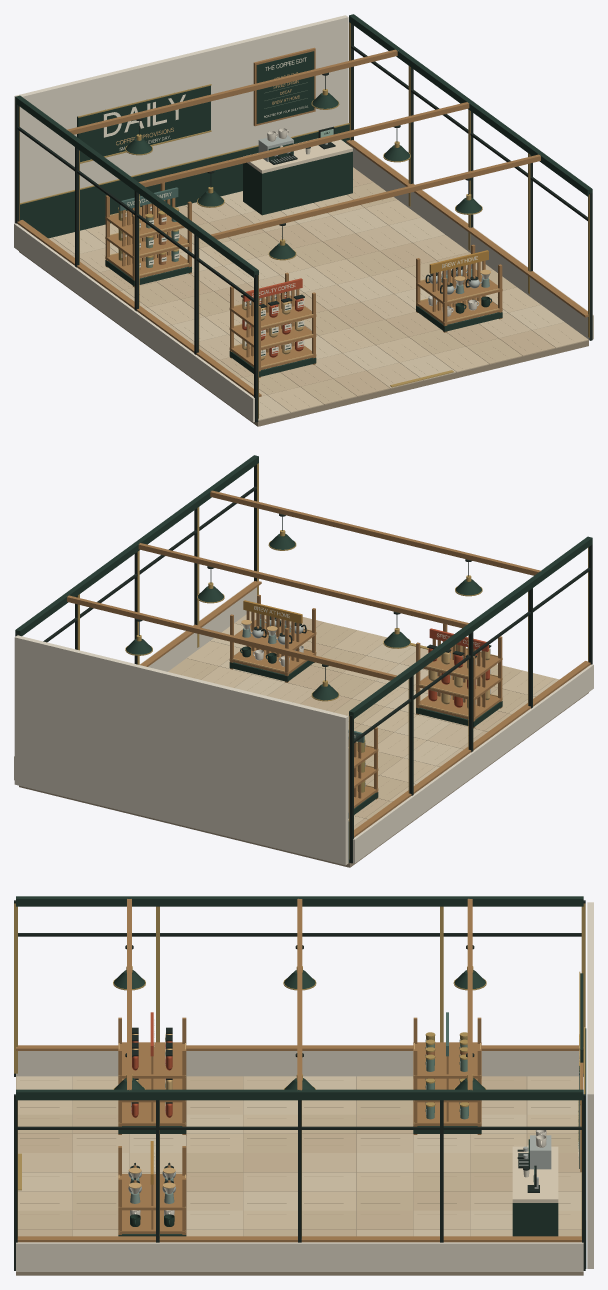
Rendered from ai-layout.glb.
The picture shows the model from 3 angles, top to bottom: view 1: azimuth 30°, elevation 25°; view 2: azimuth 150°, elevation 25°; view 3: azimuth 270°, elevation 25°; orthographic projection. The views are drawn at different scales.
Parts seen in each view (by area): view 1: Oak_floorboard (×56), Rear_wall, Side_plinth (×2), Ceiling_beam (×3), Oak_shelf (×8), Rear_wainscot, Roof_beam (×2), Fixed_checkout, Brand_panel, Window_sill (×2), Menu_board, Window_frame (×5) (+8 smaller); view 2: Rear_wall, Oak_floorboard (×21), Side_plinth (×2), Ceiling_beam (×3), Roof_beam (×2), Oak_shelf (×5), Window_frame (×5), Window_sill (×2), Window_transom (×2), Display_base (×2), Floor_8x10m, Category_header; view 3: Oak_floorboard (×67), Side_plinth (×2), Roof_beam (×2), Oak_shelf (×8), Window_sill (×2), Window_transom (×2), Ceiling_beam (×3), Floor_8x10m, Window_frame (×5), Rear_wall, Brass_frame_inlay (×4), Stone_countertop (+2 smaller).
Boxes of the visible parts, bbox=[...] form: Oak_floorboard (×56): bbox=[52, 182, 588, 412]; Rear_wall: bbox=[14, 15, 348, 223]; Side_plinth (×2): bbox=[14, 141, 593, 422]; Ceiling_beam (×3): bbox=[66, 49, 540, 239]; Oak_shelf (×8): bbox=[105, 206, 502, 370]; Rear_wainscot: bbox=[20, 124, 349, 238]; Roof_beam (×2): bbox=[15, 14, 592, 277]; Fixed_checkout: bbox=[243, 151, 352, 215]; Brand_panel: bbox=[77, 85, 210, 162]; Window_sill (×2): bbox=[17, 140, 588, 396]; Menu_board: bbox=[256, 51, 314, 123]; Window_frame (×5): bbox=[15, 103, 258, 422]; Rear_wall: bbox=[14, 635, 348, 865]; Oak_floorboard (×21): bbox=[168, 622, 555, 800]; Side_plinth (×2): bbox=[14, 582, 593, 863]; Ceiling_beam (×3): bbox=[67, 490, 541, 680]; Roof_beam (×2): bbox=[15, 455, 592, 718]; Oak_shelf (×5): bbox=[229, 620, 502, 720]; Window_frame (×5): bbox=[349, 544, 592, 863]; Window_sill (×2): bbox=[140, 581, 590, 837]; Window_transom (×2): bbox=[43, 486, 590, 743]; Display_base (×2): bbox=[229, 660, 502, 727]; Floor_8x10m: bbox=[19, 692, 588, 867]; Category_header: bbox=[243, 600, 302, 623]; Oak_floorboard (×67): bbox=[16, 1076, 583, 1229]; Side_plinth (×2): bbox=[16, 1051, 583, 1271]; Roof_beam (×2): bbox=[16, 896, 583, 1100]; Oak_shelf (×8): bbox=[118, 1042, 481, 1233]; Window_sill (×2): bbox=[16, 1045, 583, 1242]; Window_transom (×2): bbox=[17, 933, 581, 1129]; Ceiling_beam (×3): bbox=[127, 898, 472, 1090]; Floor_8x10m: bbox=[16, 1077, 583, 1275]; Window_frame (×5): bbox=[14, 1094, 585, 1270]; Rear_wall: bbox=[587, 902, 593, 1268]; Brass_frame_inlay (×4): bbox=[14, 903, 585, 1073]; Stone_countertop: bbox=[512, 1146, 558, 1202].
Bounding box in the file's own units: 8.24 × 3.61 × 10.21.
